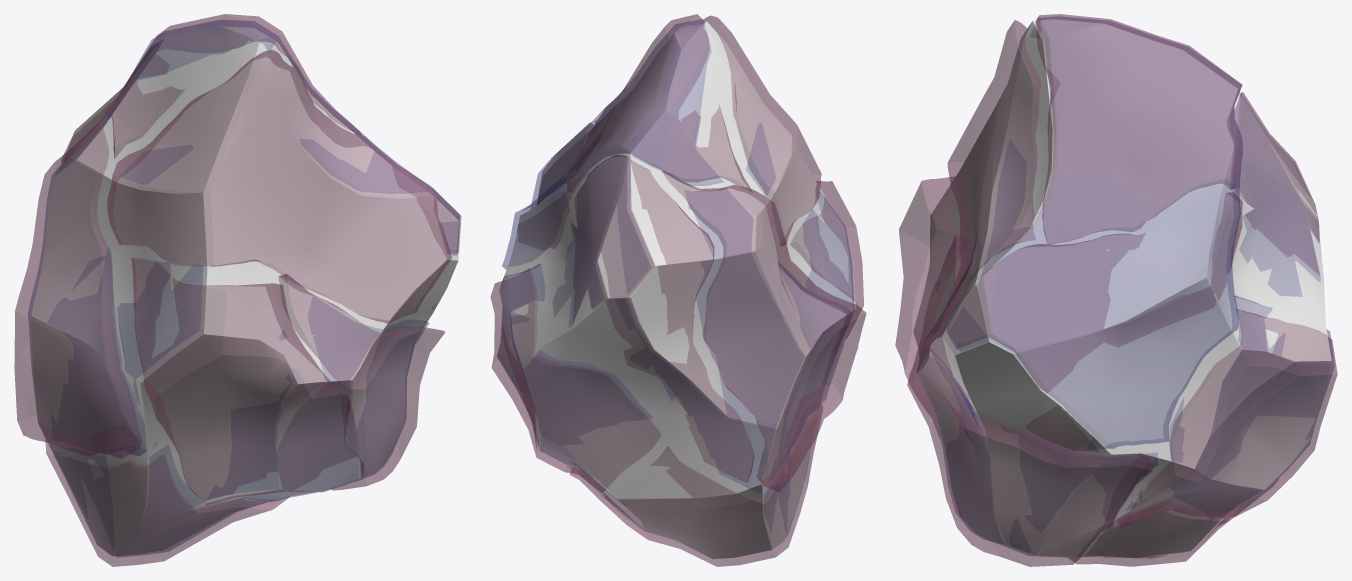
The model's file is hvs_amber_small01.fbx.
3 renders of one model, left to right at view 1: azimuth 30°, elevation 25°; view 2: azimuth 150°, elevation 25°; view 3: azimuth 270°, elevation 25°, orthographic. The views are drawn at different scales.
Visible parts, largest first — view 1: hvs_amber_small01_0.002, hvs_amber_small01_2.001, hvs_amber_small01_1.003; view 2: hvs_amber_small01_0.002, hvs_amber_small01_2.001, hvs_amber_small01_1.003; view 3: hvs_amber_small01_0.002, hvs_amber_small01_2.001, hvs_amber_small01_1.003.
Part boxes in pixels (x1,y1,x2,y2): hvs_amber_small01_0.002: [31, 26, 461, 556]; hvs_amber_small01_2.001: [14, 14, 459, 566]; hvs_amber_small01_1.003: [28, 20, 461, 557]; hvs_amber_small01_0.002: [497, 21, 855, 559]; hvs_amber_small01_2.001: [490, 14, 866, 566]; hvs_amber_small01_1.003: [497, 19, 853, 536]; hvs_amber_small01_0.002: [913, 19, 1331, 557]; hvs_amber_small01_2.001: [895, 14, 1337, 566]; hvs_amber_small01_1.003: [916, 16, 1334, 557].
Bounding box in the file's own units: 6.83 × 9.52 × 6.55.
